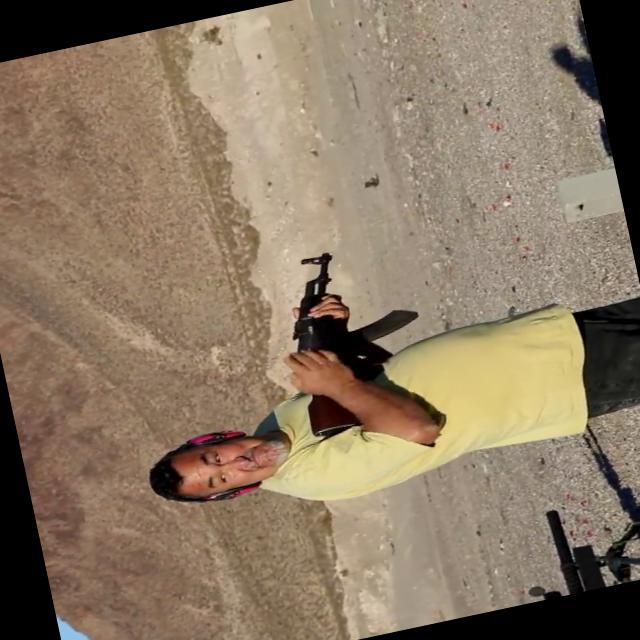long weapon: (254, 212, 430, 450)
